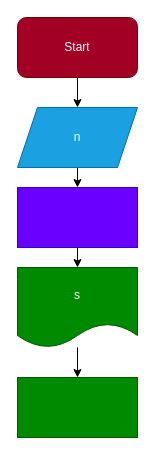
Image size: 155x455. Some labels were removed from this diagram. Here are the shapes that lost their labels. From the top down, the box of each, then its label:
(16, 186, 138, 248): s = n(n+1) / 2
(16, 376, 138, 438): FIN
